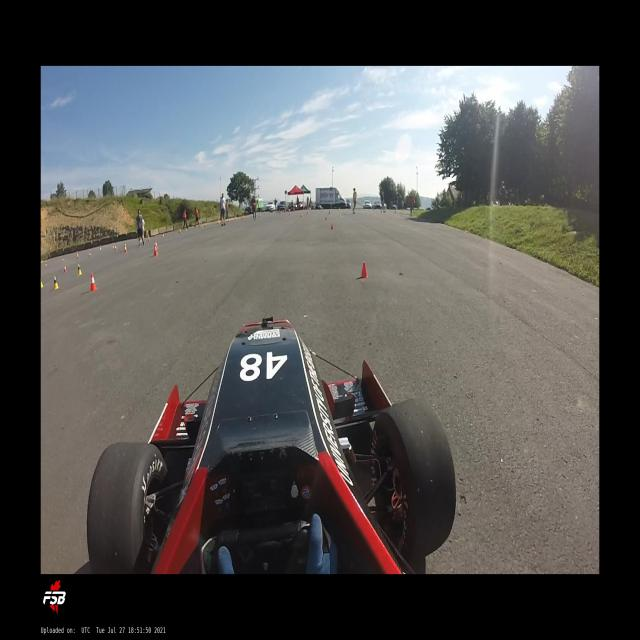orange_cone: (90, 272, 98, 292), (360, 262, 368, 278), (154, 244, 158, 256), (154, 240, 158, 249), (124, 244, 128, 253), (64, 265, 67, 273), (115, 244, 117, 250), (148, 236, 150, 242), (89, 252, 91, 258), (77, 254, 79, 259), (62, 257, 64, 262)
yellow_cone: (54, 277, 59, 289), (78, 264, 82, 275), (41, 278, 44, 289), (46, 261, 48, 266), (100, 246, 101, 250)
